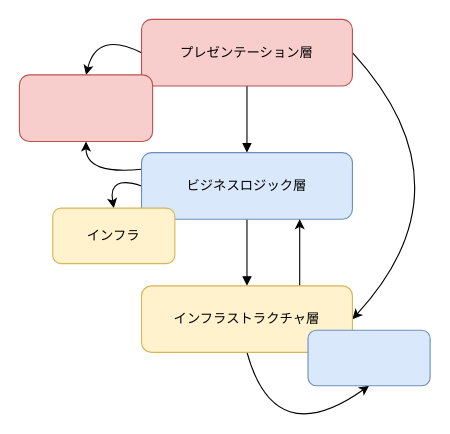
Image size: 450x434. Some labels were removed from this diagram. The shapes that lost their labels are listed below. From the top down, each one's box as (x1, y1, x2, y2) in pixels, then its label:
(18, 74, 153, 142): プレゼンテーション
(307, 329, 430, 386): ビジネスロジック
